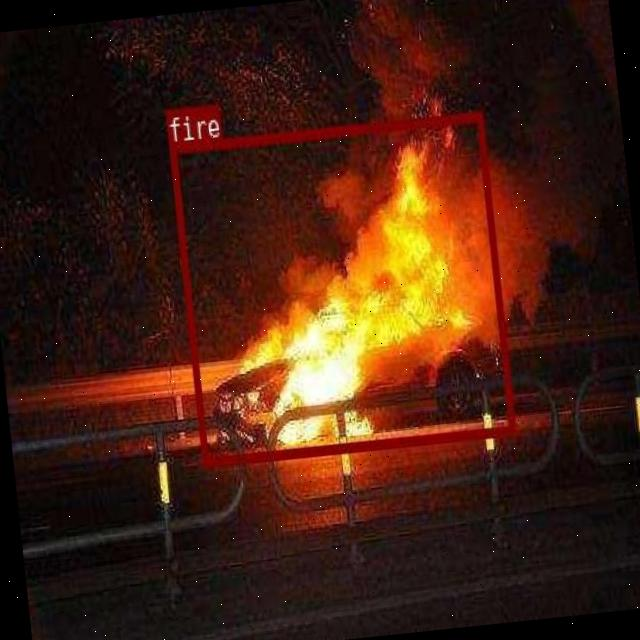fire: (167, 110, 514, 465)
